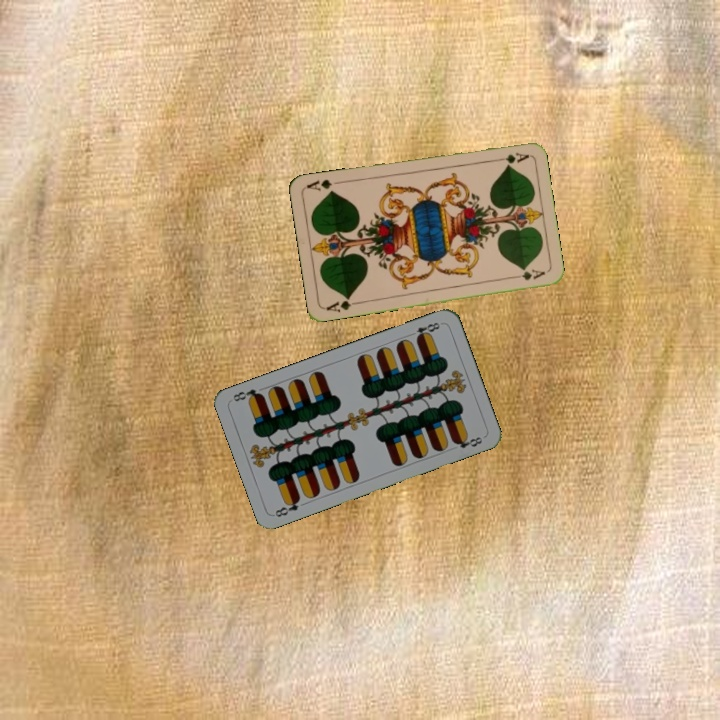E8: (405, 318, 442, 342), (271, 493, 303, 520)
GA: (322, 293, 362, 315), (490, 148, 531, 166)
